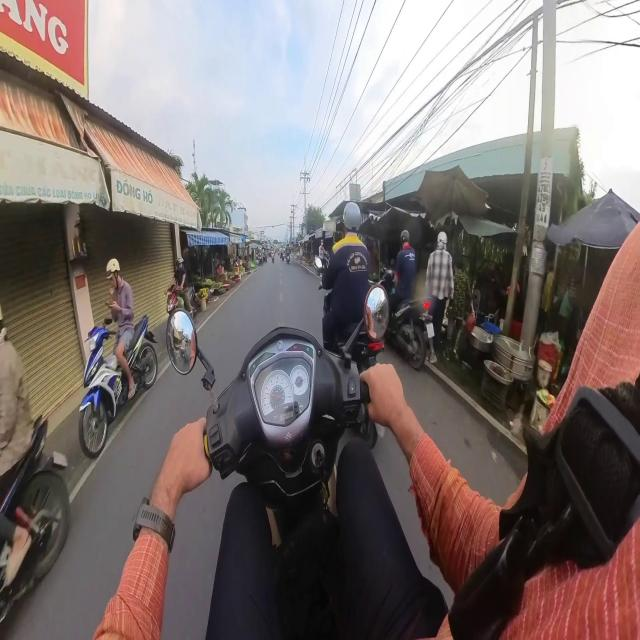motorcycle: (167, 310, 368, 637), (0, 419, 70, 622), (79, 319, 128, 458), (388, 300, 432, 369), (349, 325, 384, 373), (187, 287, 197, 321)
